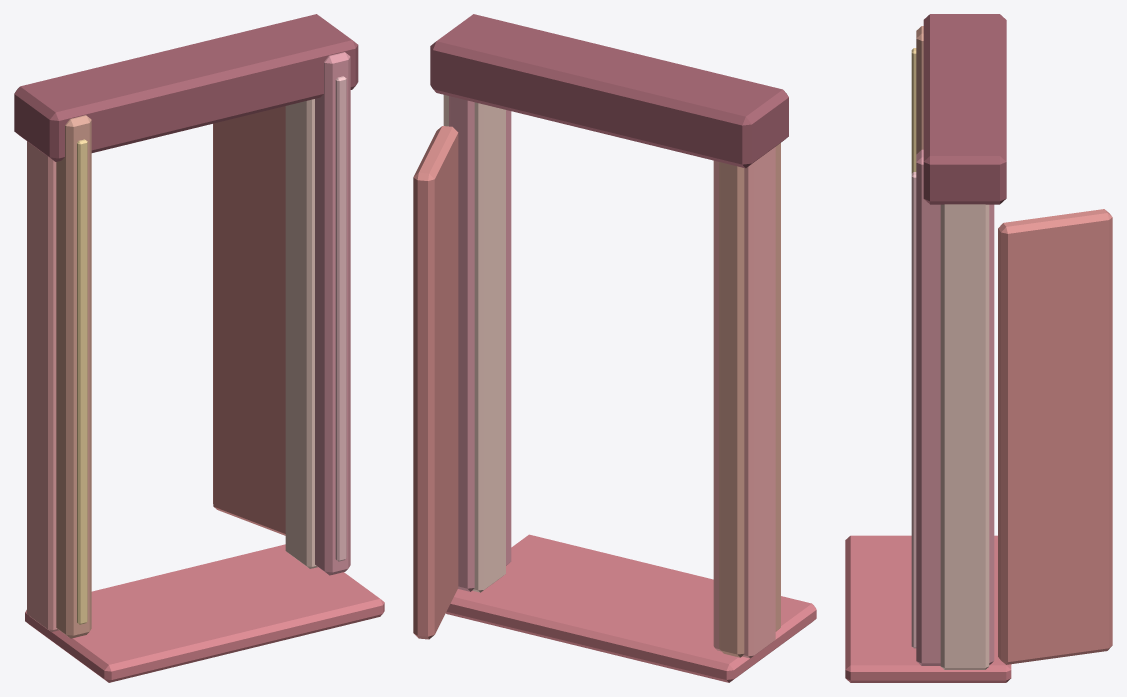
The model's file is WC_RIVER_Entrance_Open_A.glb.
3 views of the same model, side by side, from view 1: azimuth 30°, elevation 25°; view 2: azimuth 150°, elevation 25°; view 3: azimuth 270°, elevation 25° (orthographic). The views are drawn at different scales.
Visible parts, largest first — view 1: WC_RIVER_Entrance_Open_A_RenderMesh; view 2: WC_RIVER_Entrance_Open_A_RenderMesh; view 3: WC_RIVER_Entrance_Open_A_RenderMesh.
Part boxes in pixels (left/top/right/bottom): WC_RIVER_Entrance_Open_A_RenderMesh: left=14, top=14, right=384, bottom=682; WC_RIVER_Entrance_Open_A_RenderMesh: left=413, top=14, right=816, bottom=682; WC_RIVER_Entrance_Open_A_RenderMesh: left=845, top=14, right=1112, bottom=682.
Bounding box in the file's own units: 1.43 × 2.41 × 1.09.
